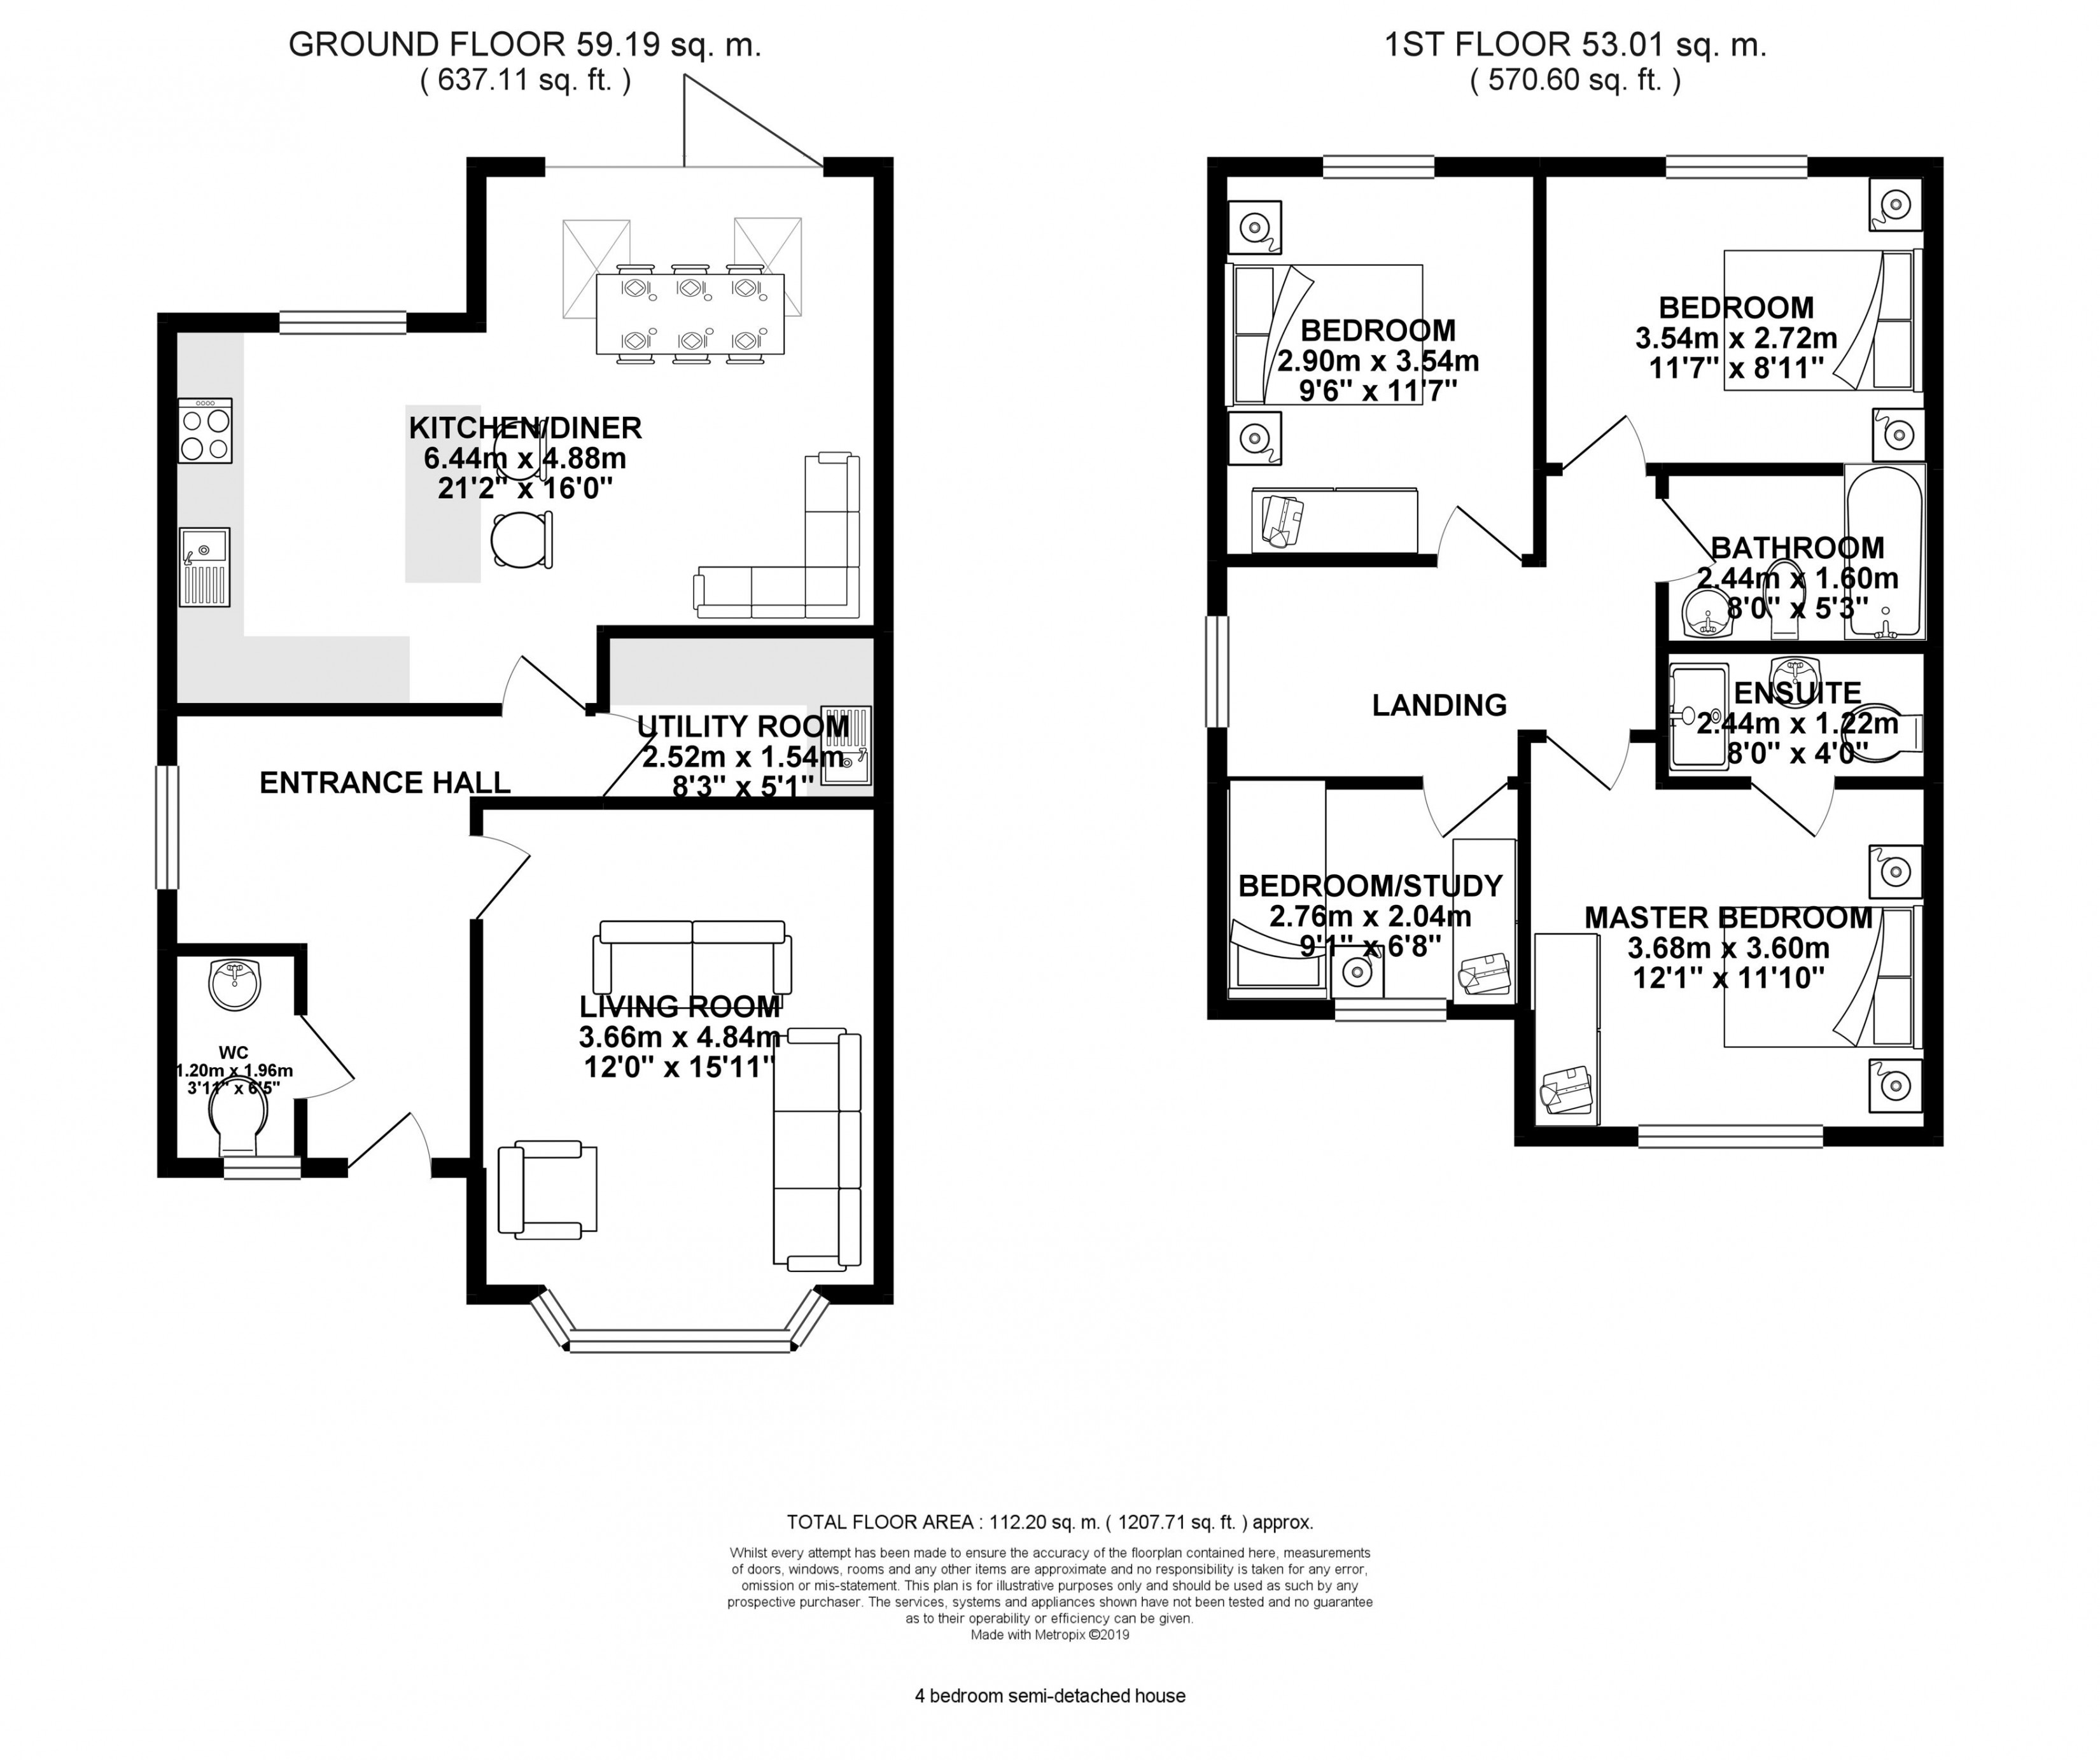window: (1632, 1121, 1828, 1154), (1662, 150, 1814, 183), (1318, 148, 1440, 183), (276, 309, 410, 339), (1332, 993, 1452, 1025), (154, 763, 182, 892), (1203, 613, 1232, 730)
